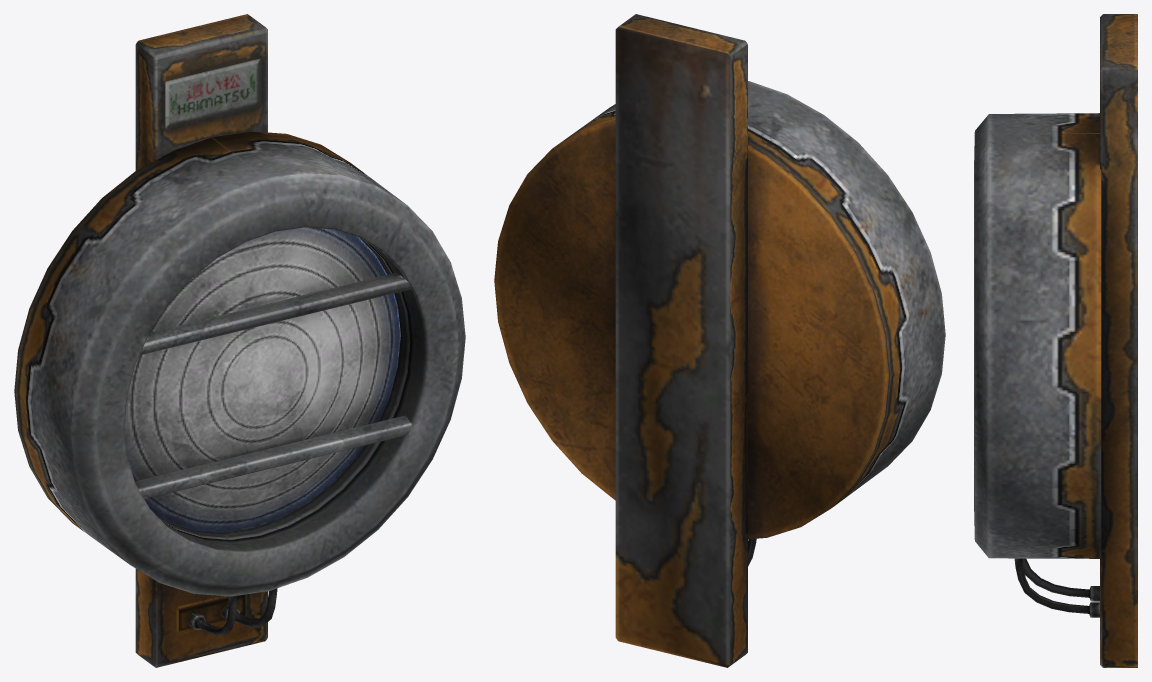
Rendered from lamp_wall_deepsea.dae.
3 renders of one model, left to right at view 1: azimuth 30°, elevation 25°; view 2: azimuth 150°, elevation 25°; view 3: azimuth 270°, elevation 25°, orthographic. The views are drawn at different scales.
Parts seen in each view (by area): view 1: polySurface23; view 2: polySurface23; view 3: polySurface23.
Boxes of the visible parts, x1,y1,x2,y2 form: polySurface23: [14, 14, 465, 667]; polySurface23: [494, 14, 945, 667]; polySurface23: [974, 14, 1137, 667].
Size of the model in its own units: 47.24 by 70.29 by 17.34.
